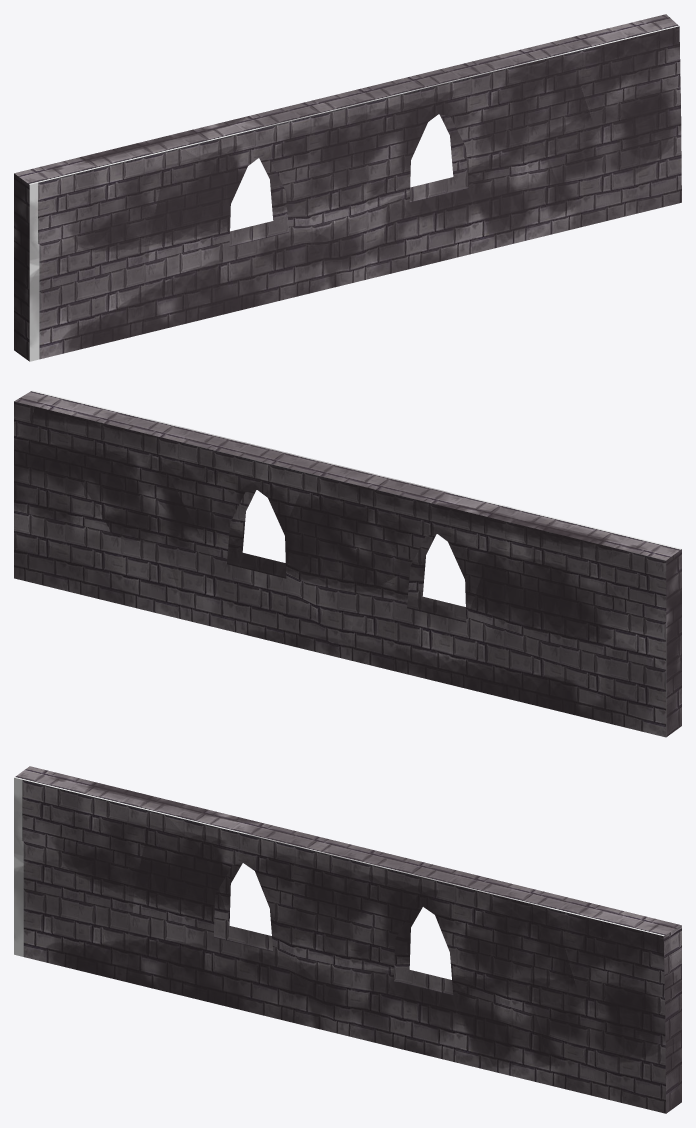
Rendered from Castle_Wall4.fbx.
3 renders of one model, top to bottom at view 1: azimuth 30°, elevation 25°; view 2: azimuth 150°, elevation 25°; view 3: azimuth 330°, elevation 25°, orthographic.
Visible parts, largest first — view 1: B_Wall; view 2: B_Wall; view 3: B_Wall.
Boxes of the visible parts, x1,y1,x2,y2 form: B_Wall: [14, 14, 681, 361]; B_Wall: [14, 390, 681, 737]; B_Wall: [14, 766, 681, 1113].
Bounding box in the file's own units: 0.3021 × 0.0783 × 0.0127.
